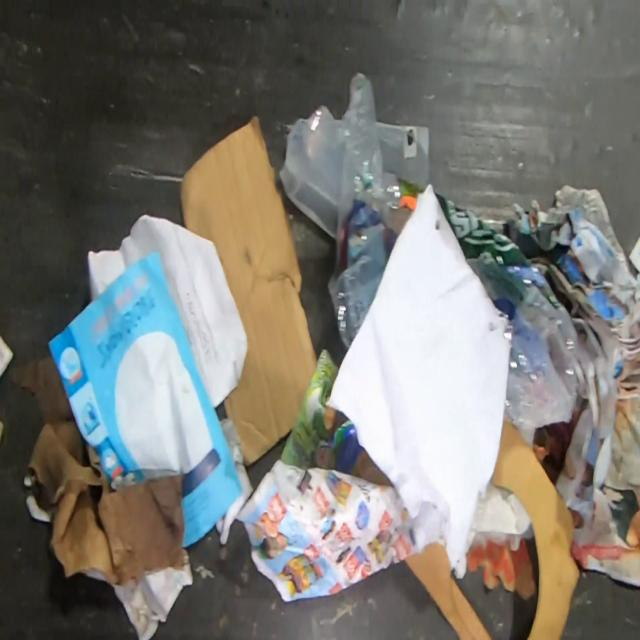cardboard: (10, 355, 194, 640), (179, 116, 318, 466), (489, 412, 580, 640), (403, 540, 493, 640)
rigid_plastic: (278, 105, 346, 240), (378, 121, 430, 188)
soft_plastic: (435, 193, 578, 430), (326, 72, 424, 350)
